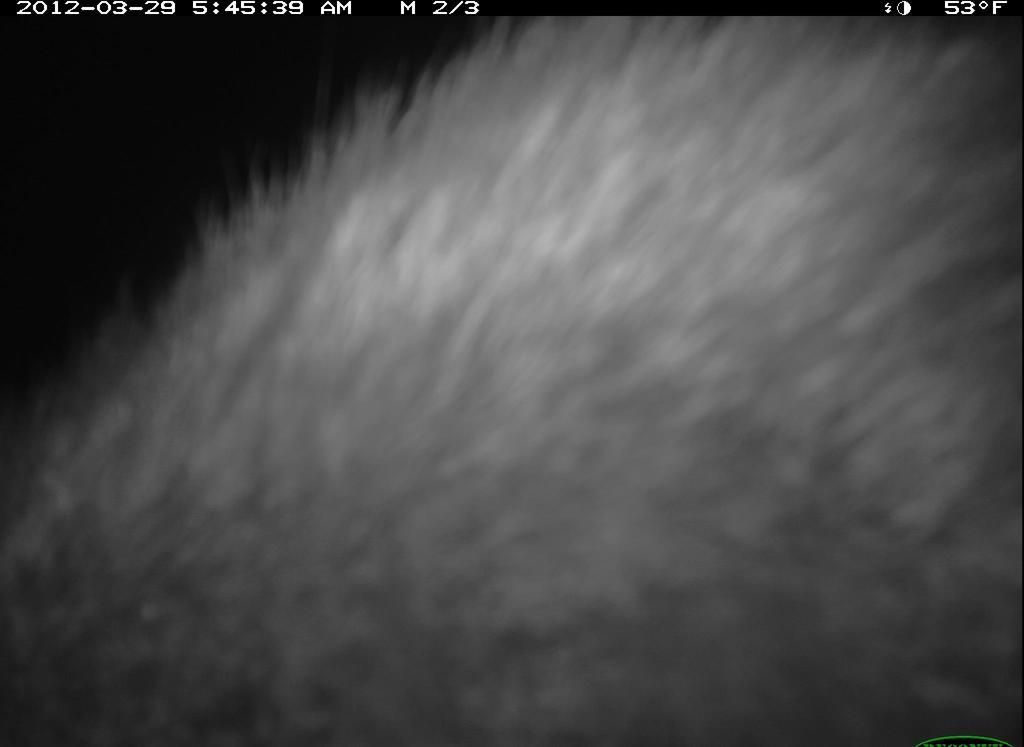raccoon: (18, 4, 1016, 737)
